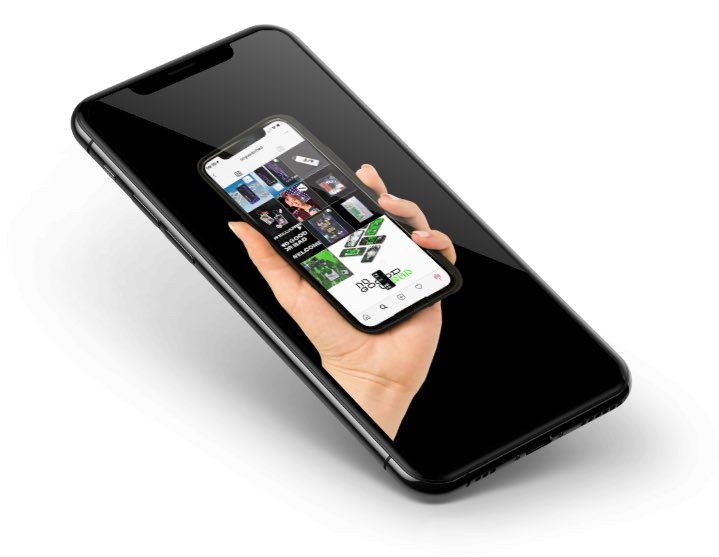Phone: (69, 21, 635, 500)
